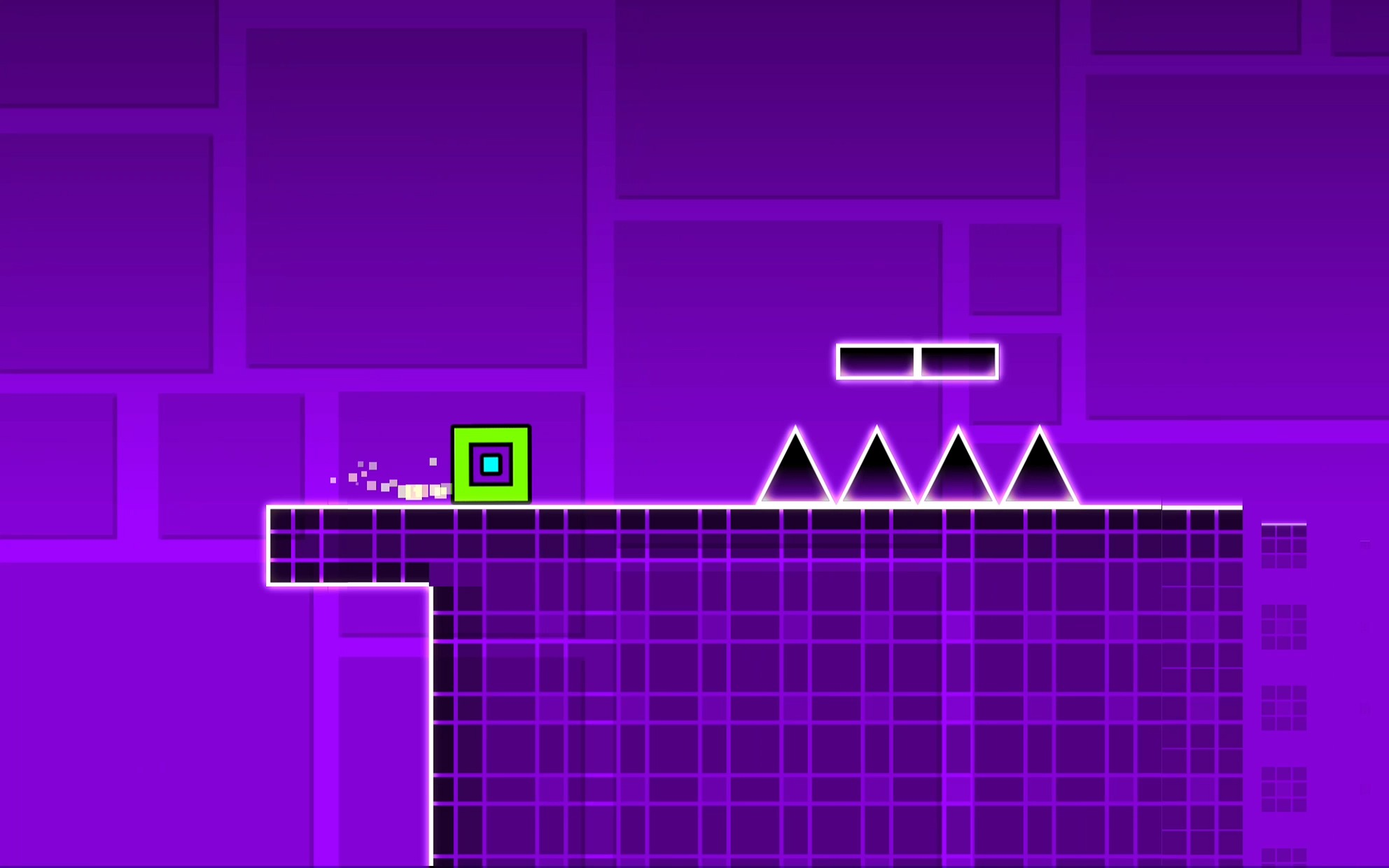Block2: (434, 510, 1309, 868), (265, 505, 433, 583)
Block3: (829, 344, 919, 379), (919, 345, 991, 380)
Player: (449, 426, 530, 503)
Spike: (758, 426, 831, 502), (1003, 428, 1076, 502), (841, 427, 912, 501), (923, 426, 993, 500)
